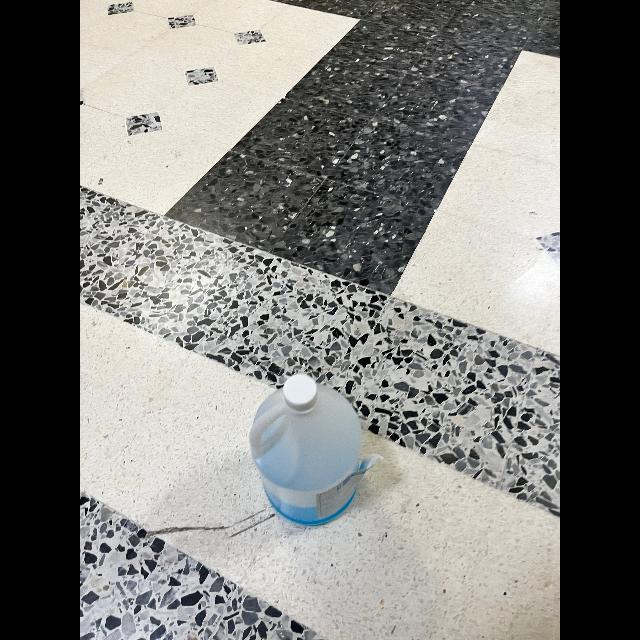chemical_plastic_gallon: (250, 360, 376, 540)
